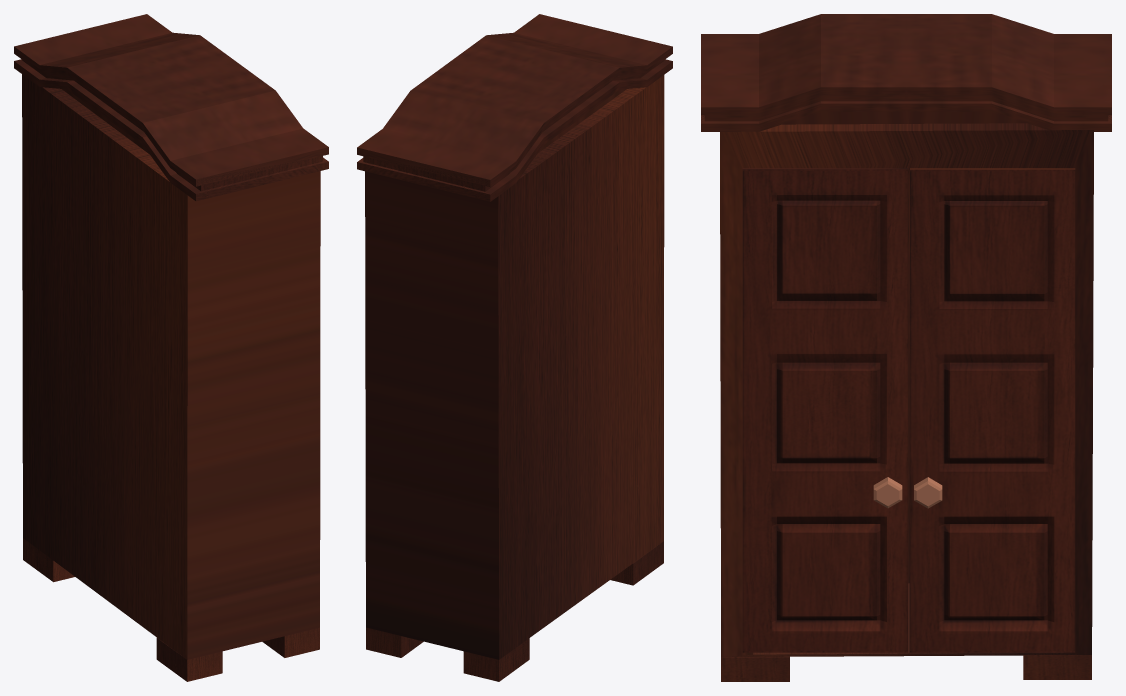
The model's file is skafhf2.fbx.
3 views of the same model, side by side, from view 1: azimuth 30°, elevation 25°; view 2: azimuth 150°, elevation 25°; view 3: azimuth 270°, elevation 25° (orthographic). The views are drawn at different scales.
Visible parts, largest first — view 1: Plane, Cube, Cube.001, Cube.002, Cube.004; view 2: Plane, Cube, Cube.004, Cube.003, Cube.001; view 3: Cube.008, Cube.005, Cube, Plane, Cube.002, Cube.003, Cube.006, Cube.007.
Boxes of the visible parts, left/top/right/bottom form: Plane: left=22, top=74, right=320, bottom=659; Cube: left=14, top=14, right=328, bottom=201; Cube.001: left=156, top=638, right=222, bottom=681; Cube.002: left=262, top=627, right=319, bottom=657; Cube.004: left=23, top=538, right=74, bottom=582; Plane: left=365, top=75, right=664, bottom=659; Cube: left=357, top=14, right=672, bottom=201; Cube.004: left=463, top=638, right=529, bottom=681; Cube.003: left=366, top=627, right=423, bottom=657; Cube.001: left=610, top=541, right=663, bottom=585; Cube.008: left=742, top=168, right=907, bottom=652; Cube.005: left=910, top=168, right=1075, bottom=652; Cube: left=701, top=14, right=1111, bottom=131; Plane: left=720, top=123, right=1093, bottom=657; Cube.002: left=721, top=656, right=789, bottom=681; Cube.003: left=1023, top=655, right=1091, bottom=679; Cube.006: left=873, top=477, right=902, bottom=508; Cube.007: left=914, top=477, right=942, bottom=508.
Bounding box in the file's own units: 238 × 813 × 509.
4 materials, 3 textured.
